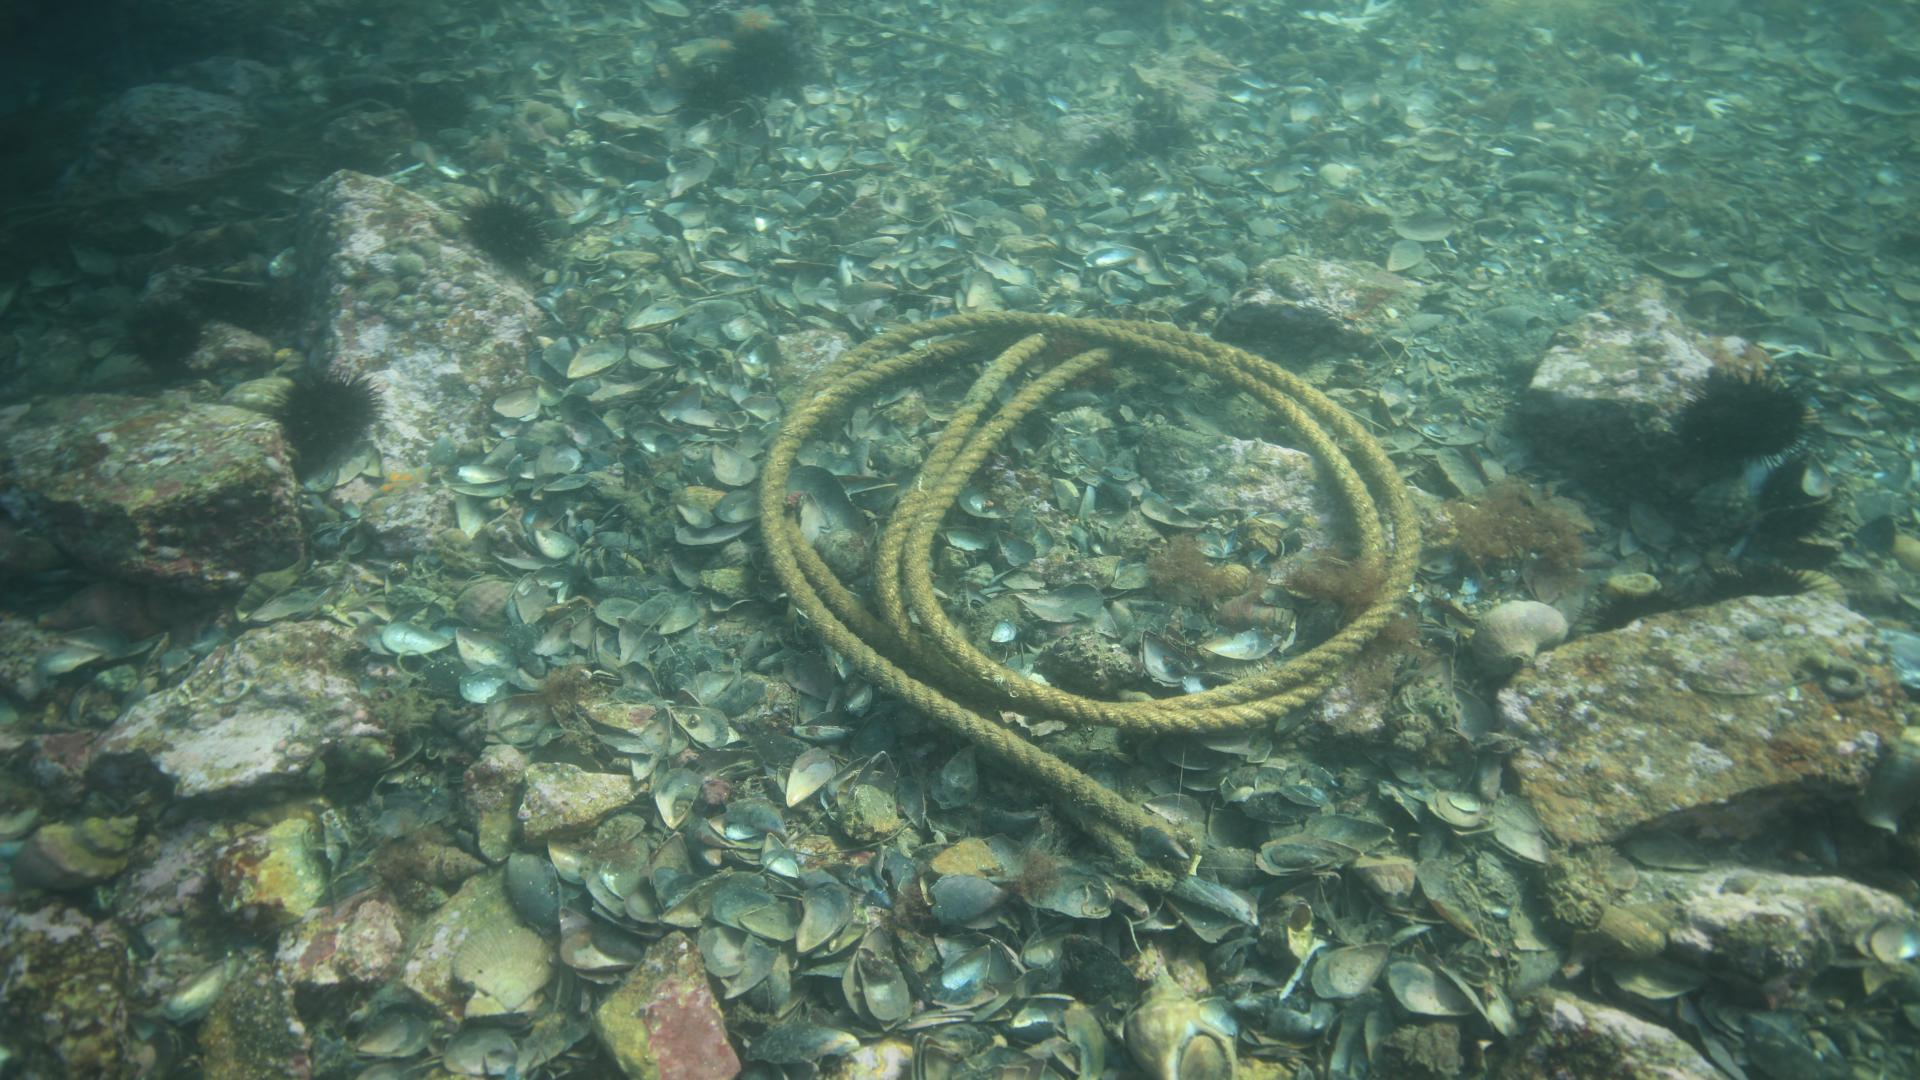bundle of ropes: (752, 305, 1428, 833)
